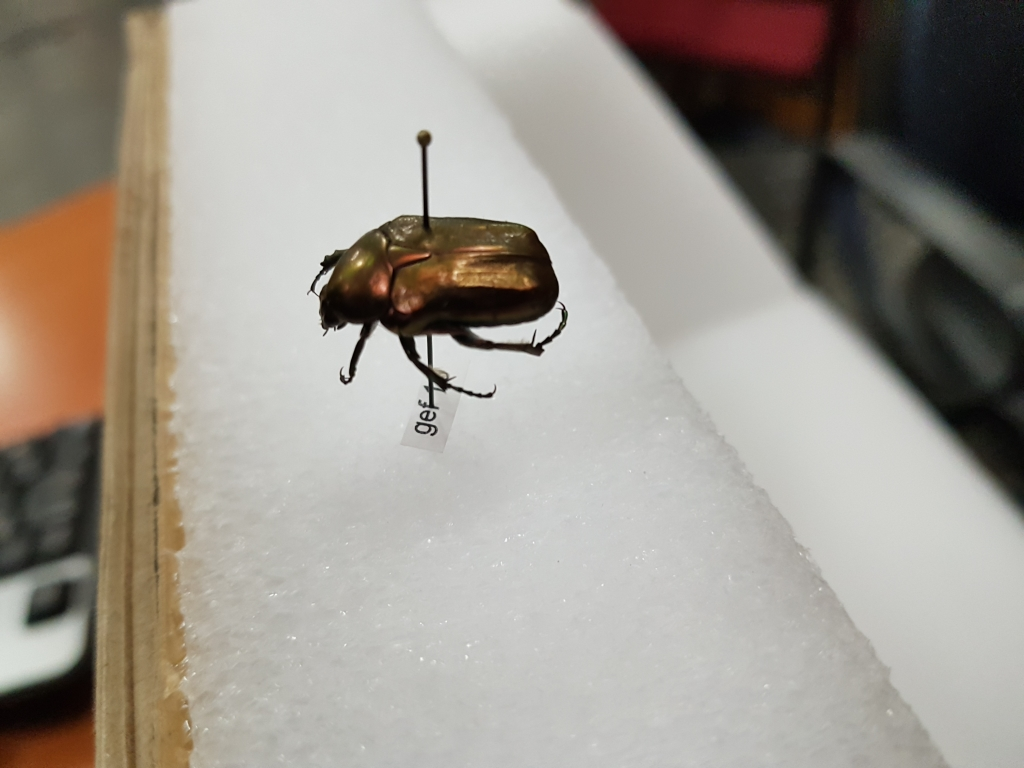Cetonia_aurata: (300, 207, 574, 410)
